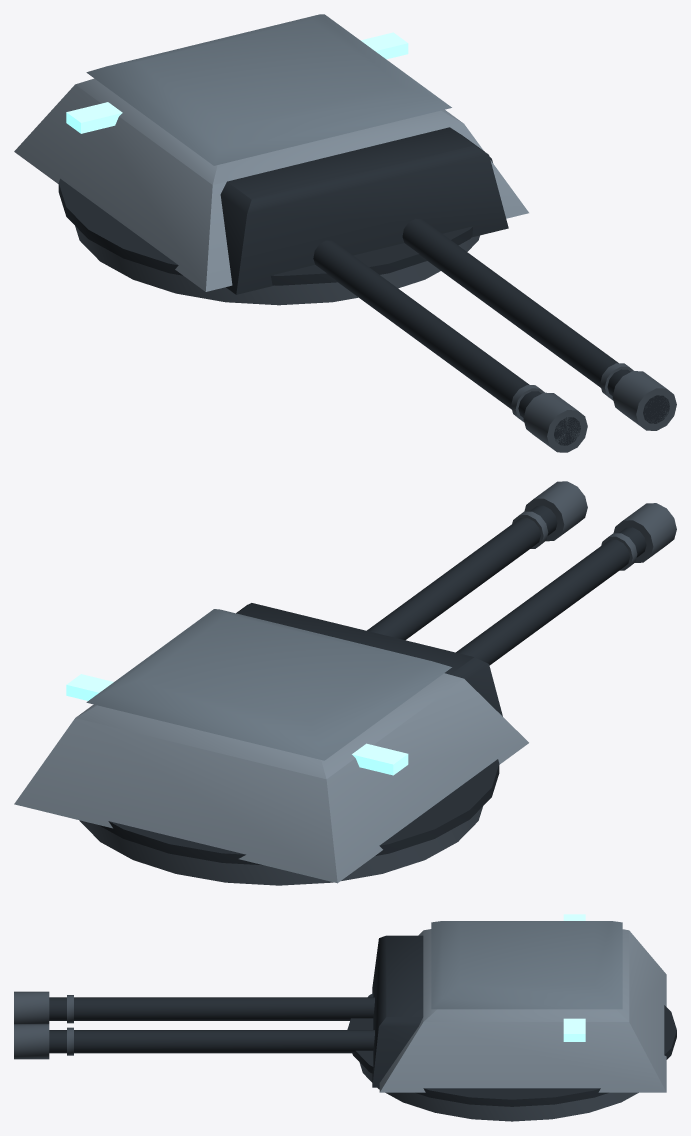
The model's file is arena_weapon_heavy.glb.
3 views of the same model, one above another, from view 1: azimuth 30°, elevation 25°; view 2: azimuth 150°, elevation 25°; view 3: azimuth 270°, elevation 25° (orthographic). The views are drawn at different scales.
Parts seen in each view (by area): view 1: turret_top, mantlet, turret_body, barrel_R_tube, barrel_L_tube, base_ring, base, barrel_L_brake, barrel_R_brake, turret_team; view 2: turret_body, turret_top, base, barrel_L_tube, barrel_R_tube, base_ring, mantlet, barrel_L_brake, barrel_R_brake, turret_team; view 3: turret_body, turret_top, barrel_L_tube, barrel_R_tube, mantlet, base_ring, base, barrel_R_brake, barrel_L_brake, turret_team.
Boxes of the visible parts, x1=… form: turret_top: x1=86, y1=14, x2=451, y2=165; mantlet: x1=220, y1=127, x2=508, y2=294; turret_body: x1=14, y1=78, x2=528, y2=291; barrel_R_tube: x1=402, y1=218, x2=669, y2=423; barrel_L_tube: x1=313, y1=240, x2=580, y2=445; base_ring: x1=58, y1=151, x2=492, y2=285; base: x1=75, y1=226, x2=479, y2=305; barrel_L_brake: x1=511, y1=385, x2=587, y2=452; barrel_R_brake: x1=600, y1=363, x2=676, y2=430; turret_team: x1=66, y1=32, x2=408, y2=133; turret_body: x1=14, y1=673, x2=528, y2=883; turret_top: x1=86, y1=609, x2=451, y2=760; base: x1=79, y1=806, x2=482, y2=885; barrel_L_tube: x1=456, y1=527, x2=646, y2=665; barrel_R_tube: x1=367, y1=505, x2=557, y2=640; base_ring: x1=98, y1=759, x2=499, y2=865; mantlet: x1=236, y1=603, x2=502, y2=716; barrel_L_brake: x1=601, y1=503, x2=676, y2=570; barrel_R_brake: x1=512, y1=481, x2=587, y2=548; turret_team: x1=66, y1=674, x2=408, y2=775; turret_body: x1=379, y1=929, x2=666, y2=1092; turret_top: x1=431, y1=921, x2=622, y2=1009; barrel_L_tube: x1=49, y1=997, x2=374, y2=1020; barrel_R_tube: x1=49, y1=1030, x2=374, y2=1053; mantlet: x1=372, y1=935, x2=423, y2=1087; base_ring: x1=347, y1=993, x2=676, y2=1106; base: x1=359, y1=1062, x2=638, y2=1121; barrel_R_brake: x1=14, y1=1024, x2=73, y2=1059; barrel_L_brake: x1=14, y1=991, x2=73, y2=1023; turret_team: x1=563, y1=914, x2=585, y2=1041.
Bounding box in the file's own units: 14.56 × 5 × 29.28.
